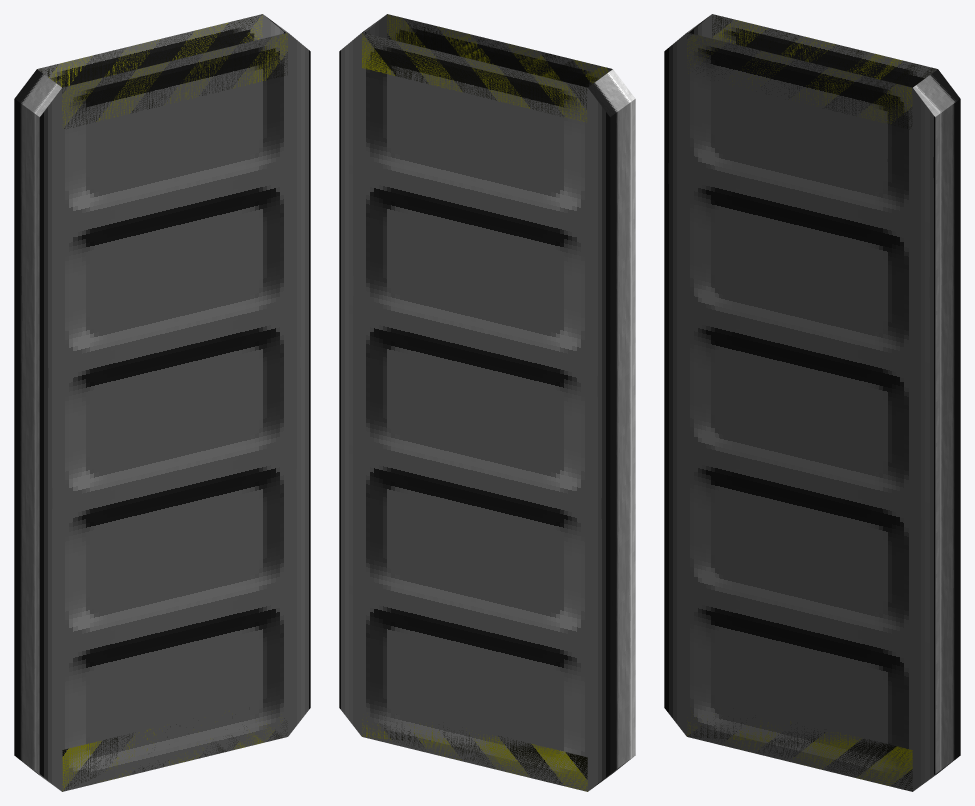
File: primary_141.glb
3 renders of one model, left to right at view 1: azimuth 30°, elevation 25°; view 2: azimuth 150°, elevation 25°; view 3: azimuth 330°, elevation 25°, orthographic.
Visible parts, largest first — view 1: Object; view 2: Object; view 3: Object.
Part boxes in pixels (box(x1,y1,x2,y2)): Object: box(14, 14, 310, 791); Object: box(339, 14, 635, 791); Object: box(664, 14, 960, 791).
Size of the model in its own units: 0.935 by 2.32 by 0.1516.
8 materials, 8 textured.
